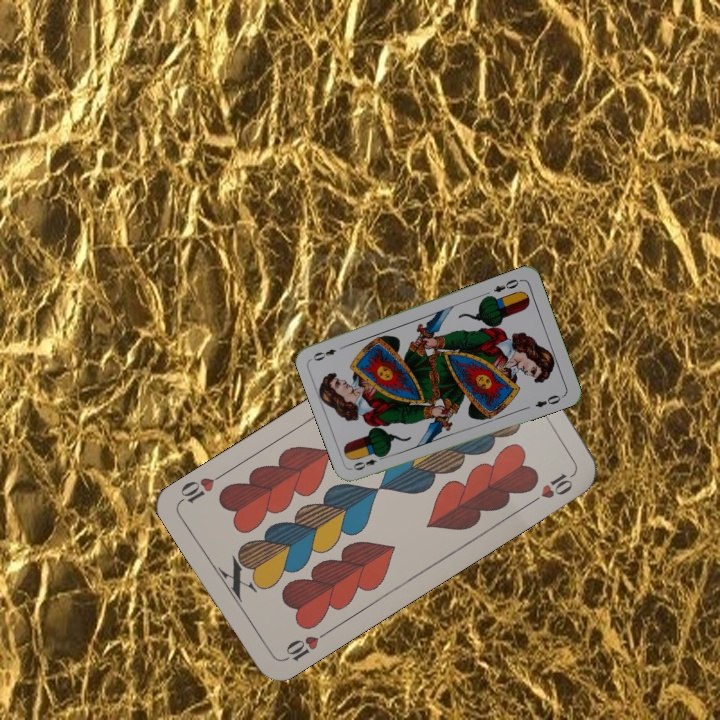EO: (349, 451, 388, 473), (489, 275, 524, 295)
H10: (278, 626, 331, 665)
